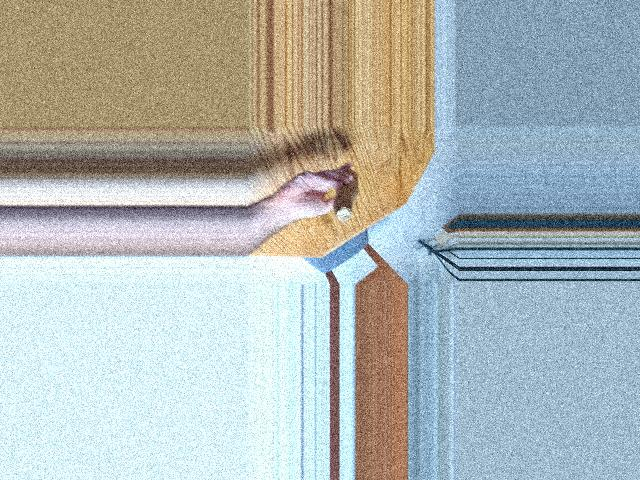sweet_potato: (320, 167, 360, 228)
